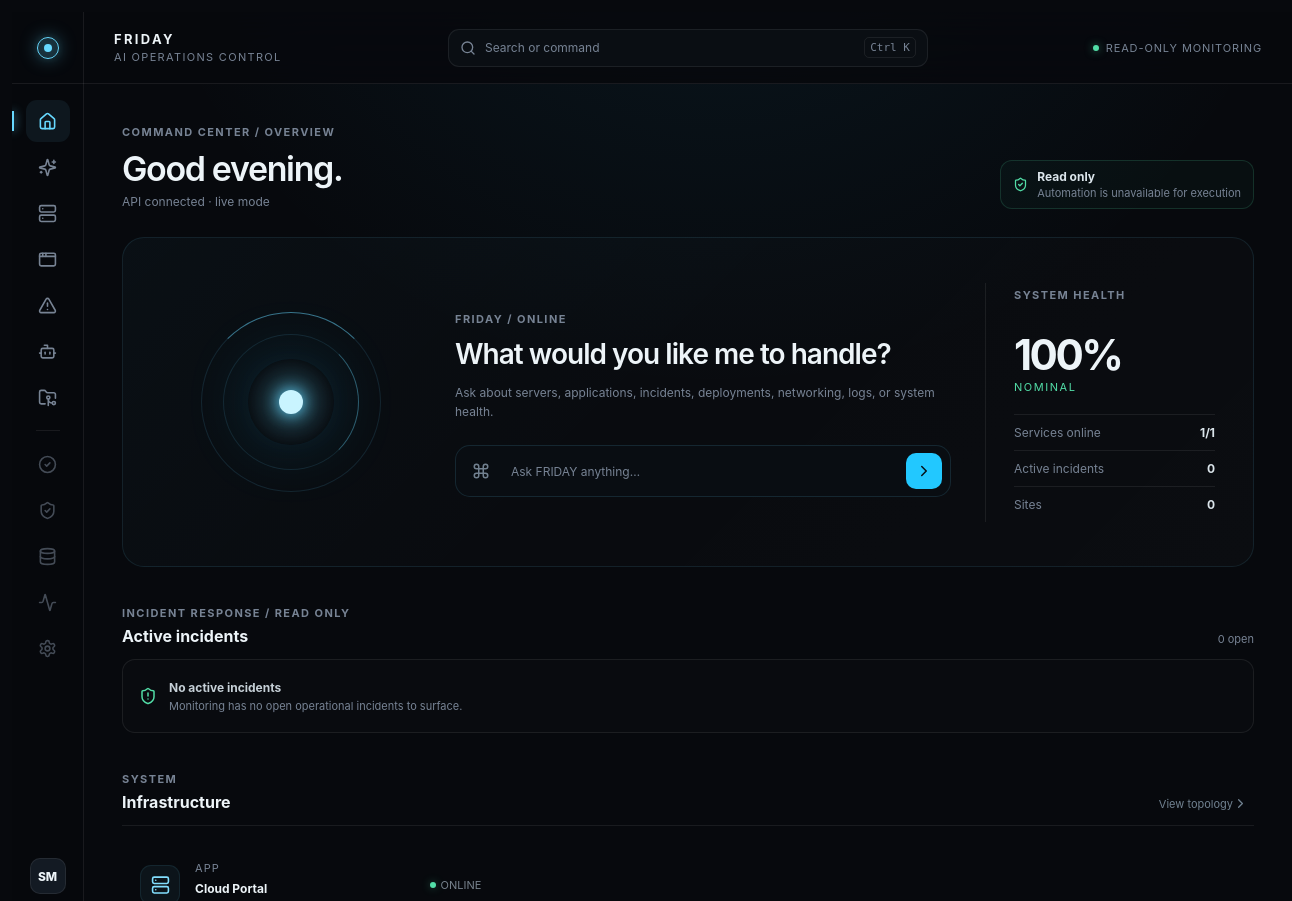
it: Dashboard operator integrity and honest feature status › routes Applications to observed application inventory instead of generic environment view
Click the button named "Applications" at x=48, y=259, box x1=26 y1=238 x2=70 y2=280
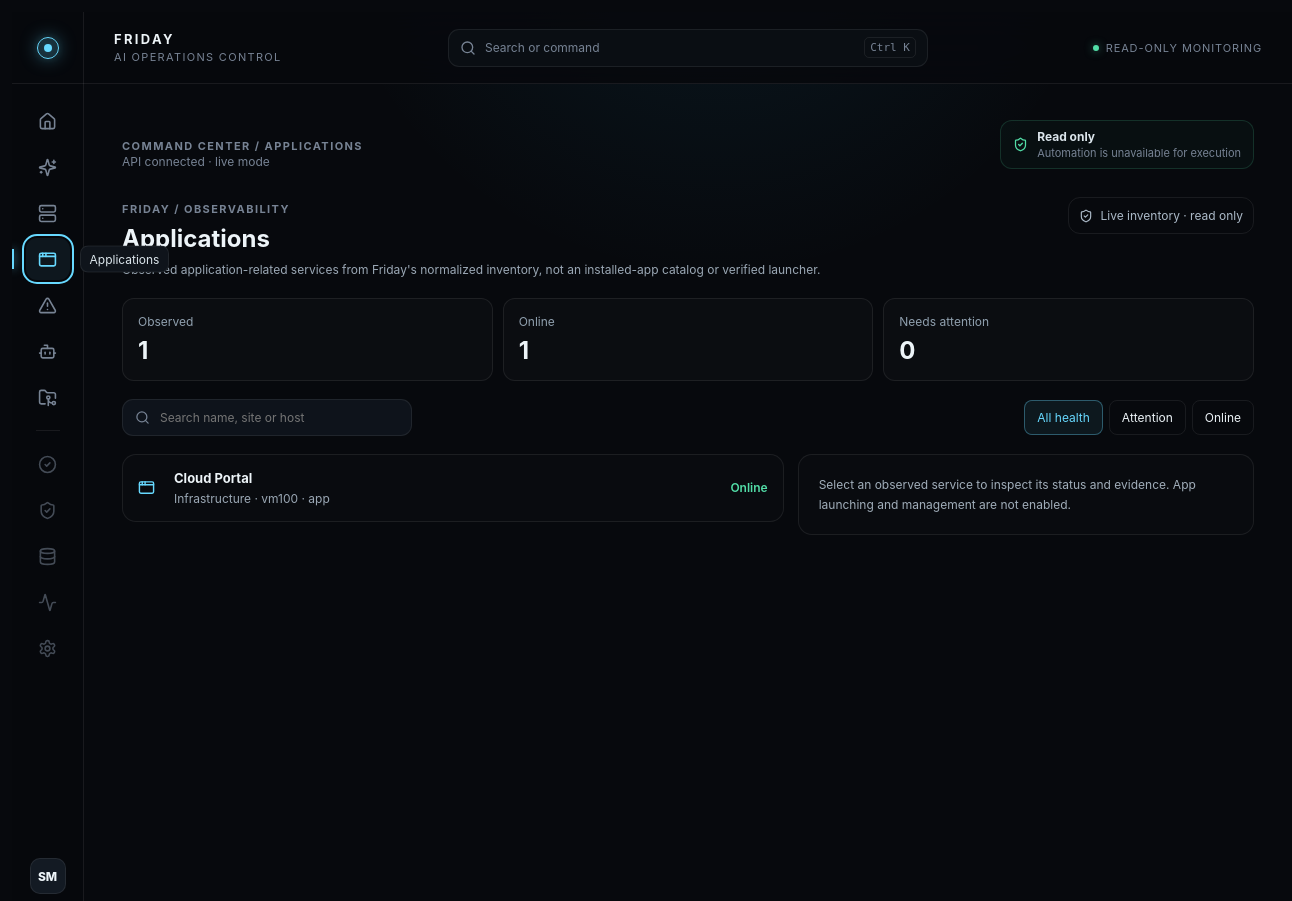
Check: the text "Cloud Portal" is shown, box x1=174 y1=470 x2=252 y2=486
Check: the element named "Observed application services" is shown, box x1=122 y1=454 x2=784 y2=522
